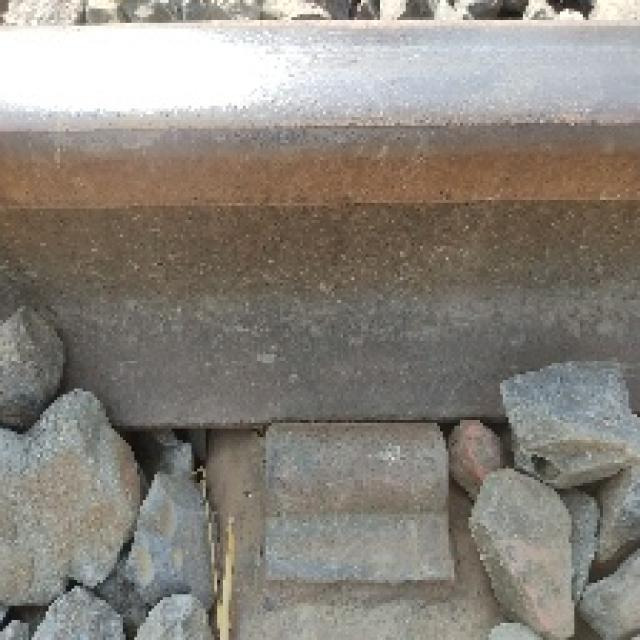Missing Fastener: (244, 418, 469, 620)
